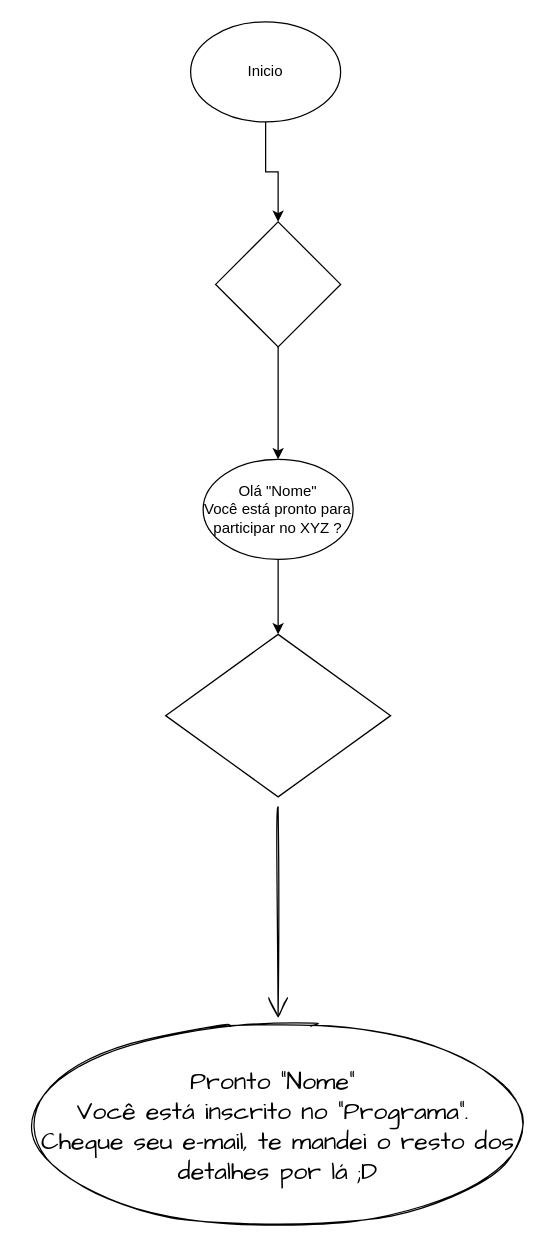
This 556x1244 diagram has some shape labels left out. The shapes that lost their labels are listed below. From the top down, each one's centre as x and y in pixels, then its label:
the point at 277,284: Digite seu nome
the point at 277,715: Qual seu e-mail? E... (outras informações)
